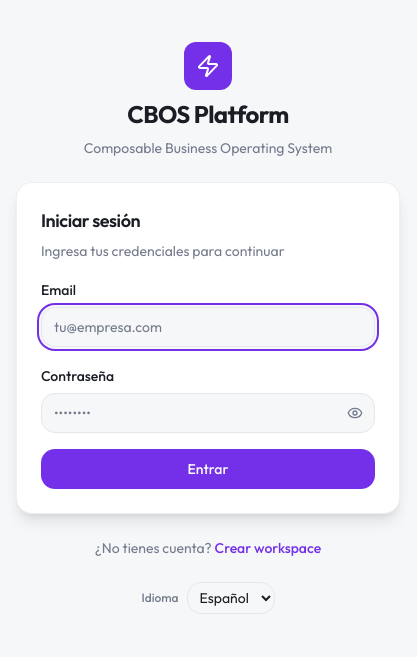
Test: Login, in Spanish › shows the translated backend error, not the raw code
Type "a@b.co" into the field labelled "Email" at (208, 327), box [41, 307, 375, 347]
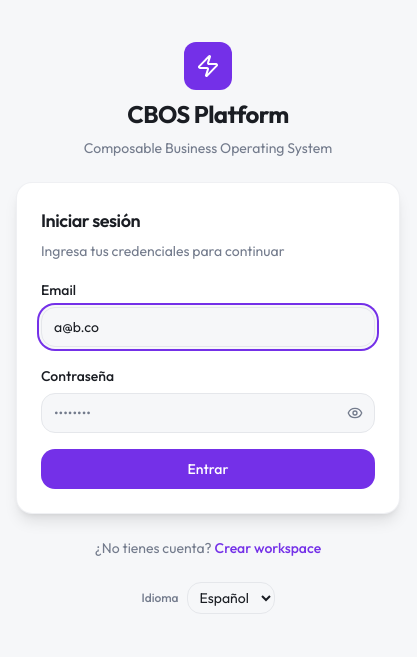
Type "x" into the password field labelled "Contraseña" at (208, 413), box [41, 393, 375, 433]
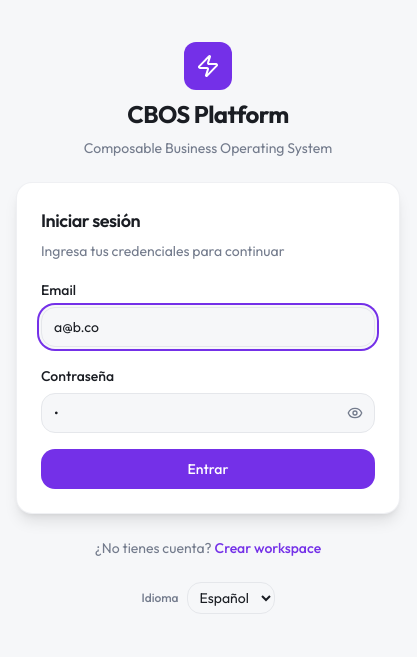
Click the button "Entrar" at (208, 469), box [41, 449, 375, 489]
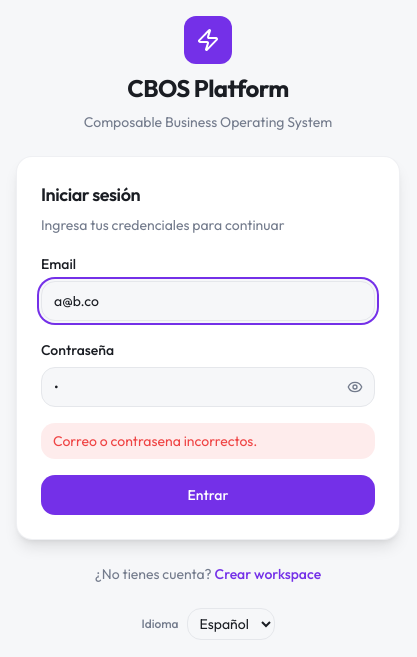
Now the text "Correo o contrasena incorrectos." is shown, box [41, 423, 375, 459]
